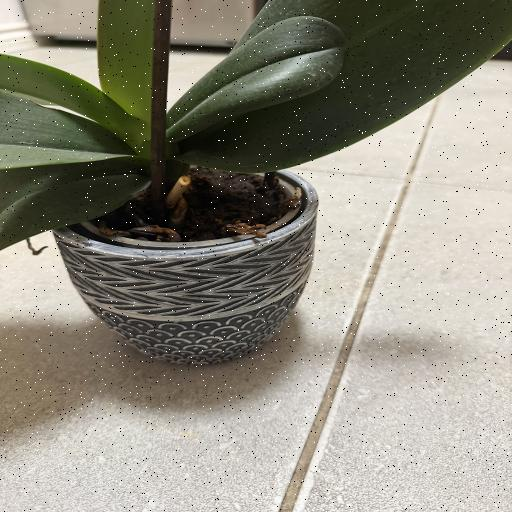Plant Pot: (47, 166, 319, 367)
